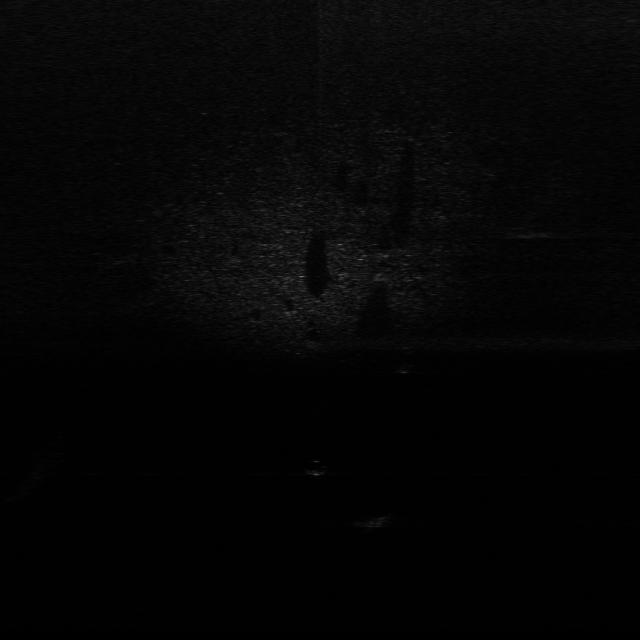ball: (300, 457, 330, 477)
square cage: (347, 511, 403, 532)
tyre: (390, 346, 416, 376)
